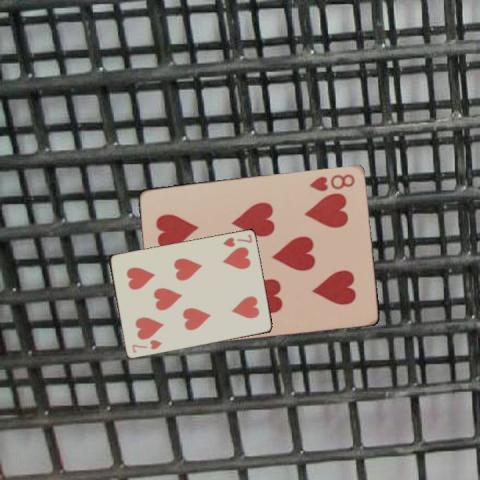7h: (129, 336, 163, 355), (220, 232, 253, 249)
8h: (306, 170, 357, 192)
